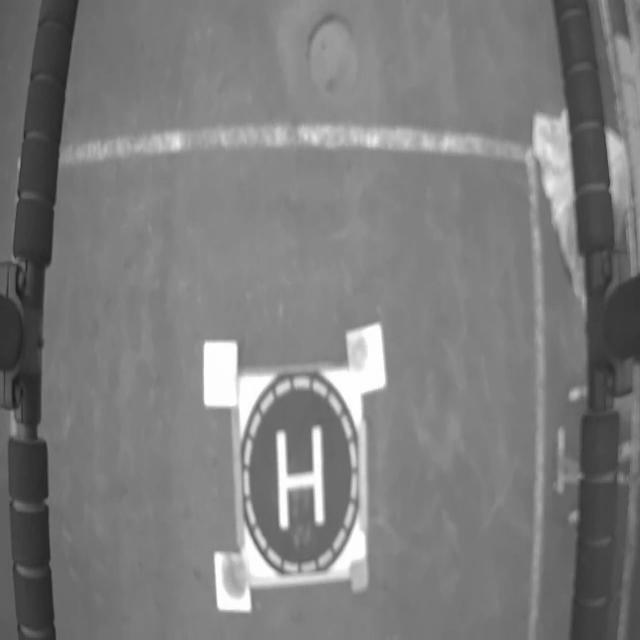Helipad: (276, 425, 325, 531)
